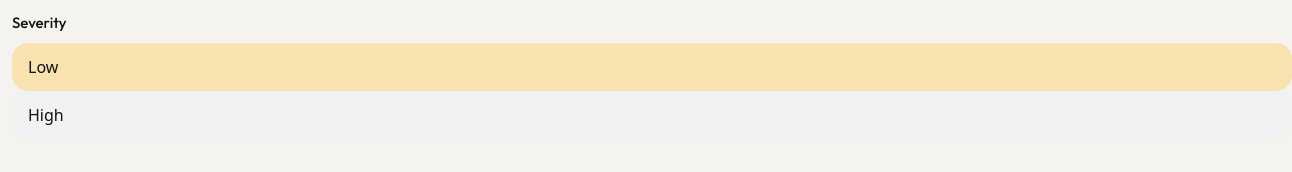
Test: ChoiceCard › is a real radio named by its card text
The width and height of the screenshot is (1292, 172).
Click the radio button labelled "High".
click(46, 114)  # box x1=12 y1=90 x2=1291 y2=138
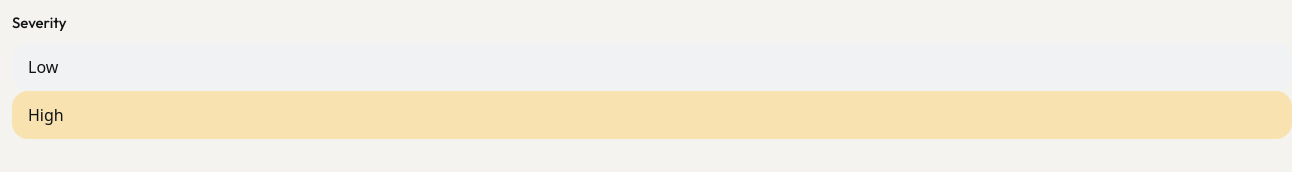
Expected: the radio button labelled "High" is checked, x1=12 y1=90 x2=1291 y2=138
Expected: the radio button labelled "Low" is not checked, x1=12 y1=42 x2=1291 y2=90
